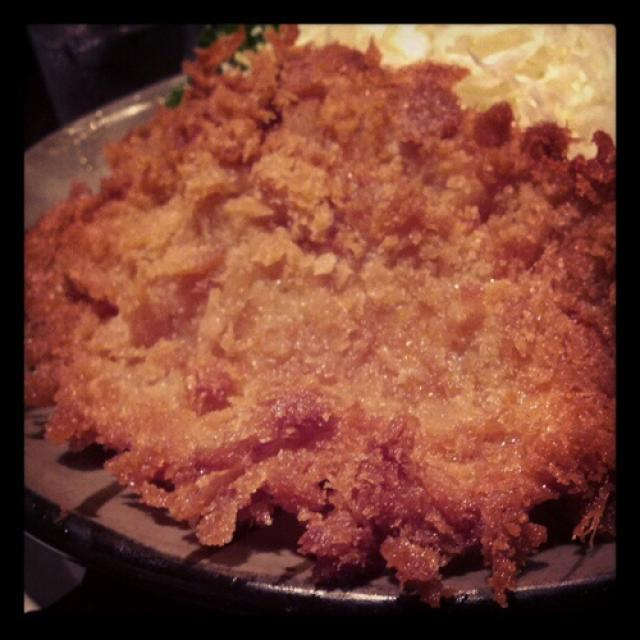炸货点心: (18, 20, 623, 608)
